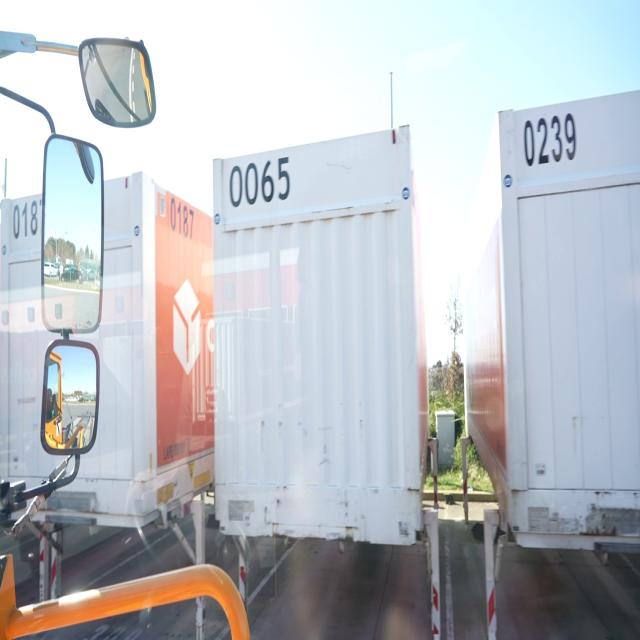Code: (227, 152, 295, 212), (521, 108, 580, 169), (164, 187, 200, 246)
